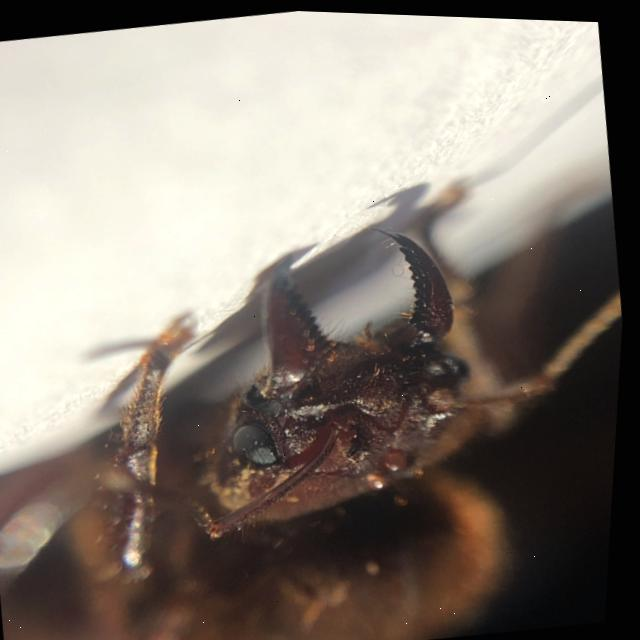Alive-Female-Dealate: (0, 146, 633, 640)
